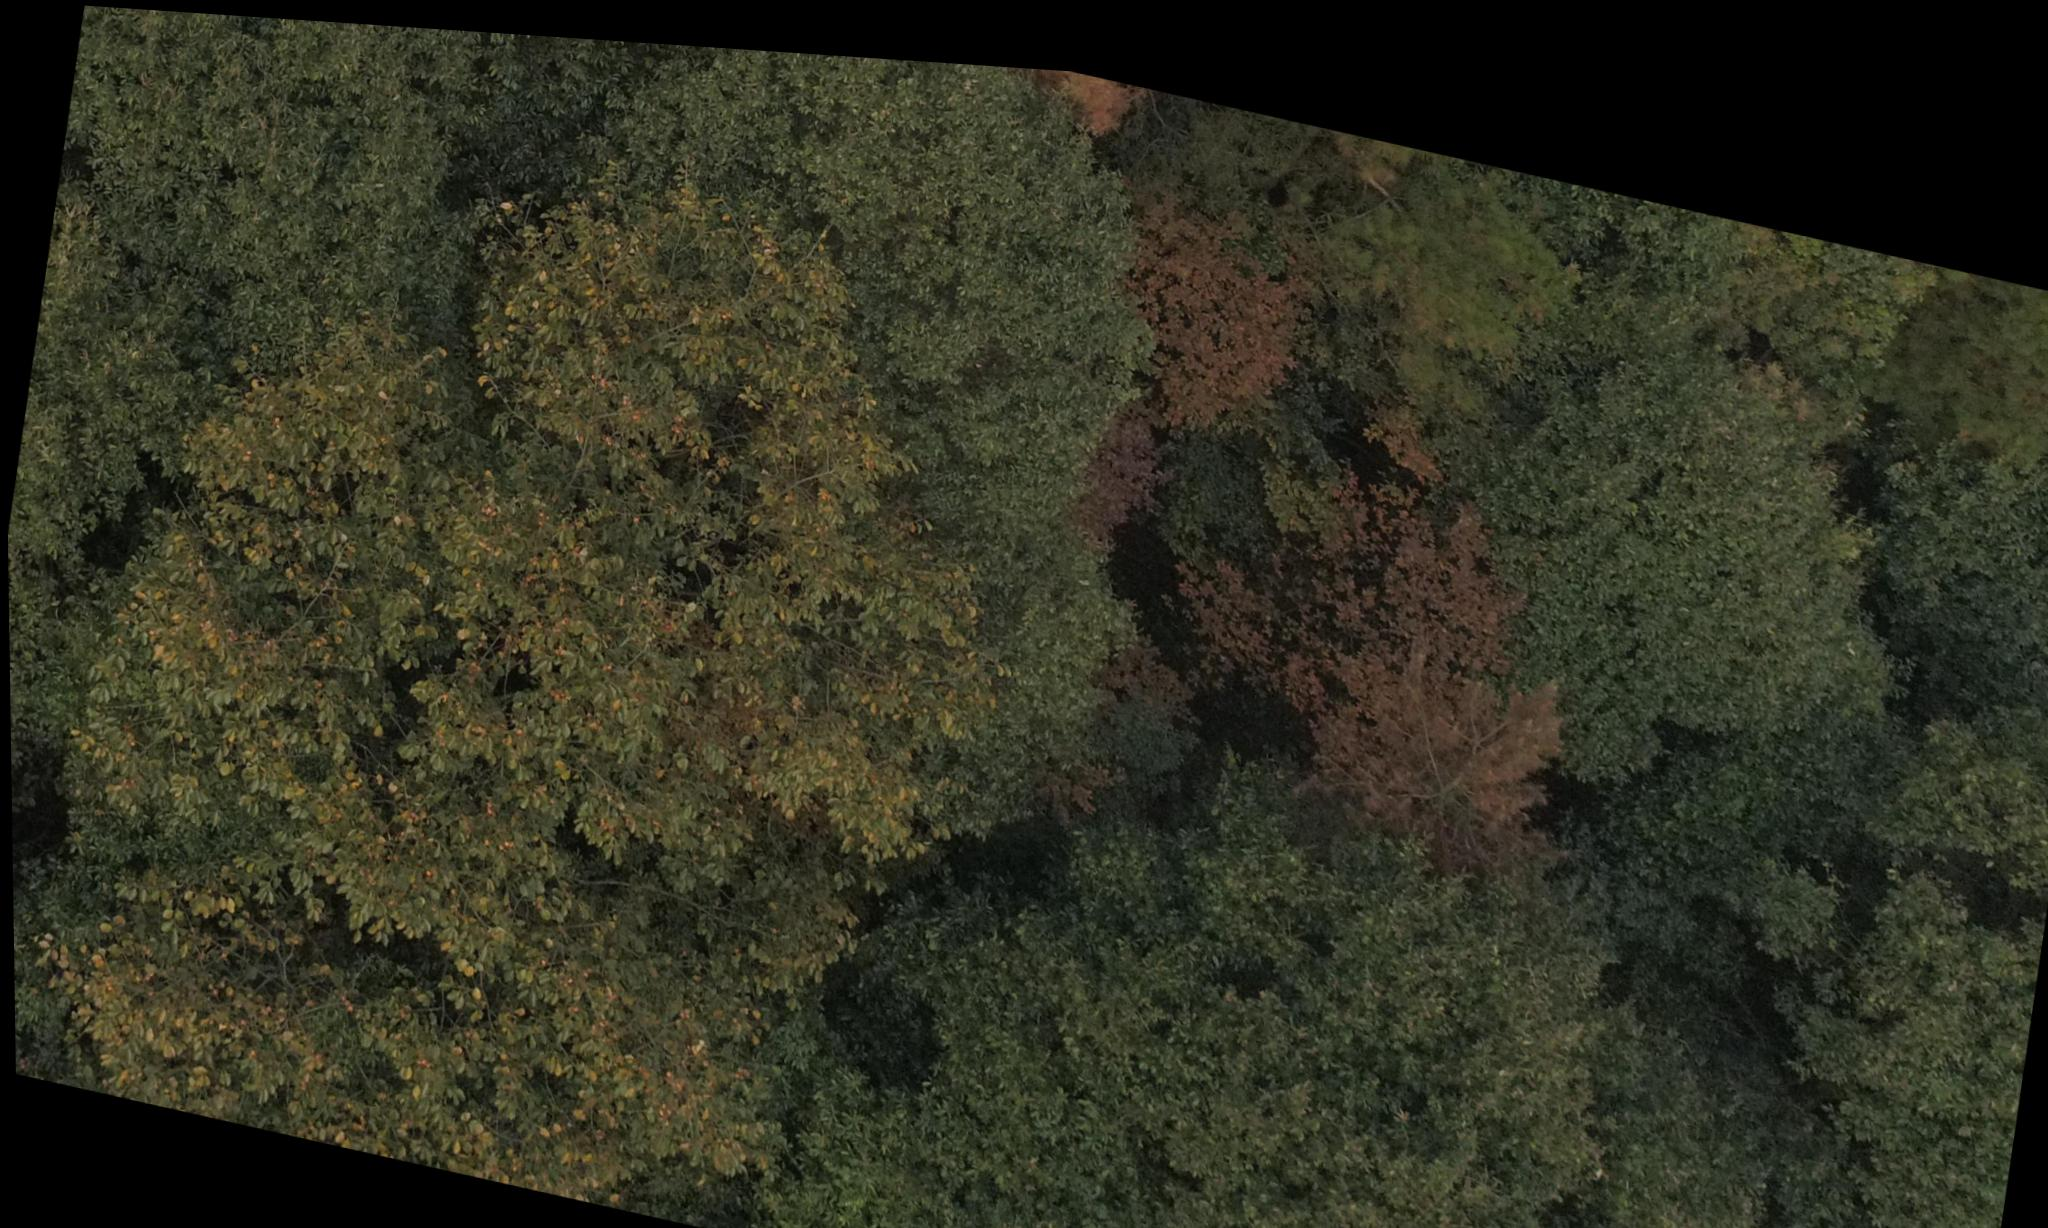heavy: (1278, 439, 1579, 848), (1095, 184, 1323, 444), (1028, 54, 1149, 142)
